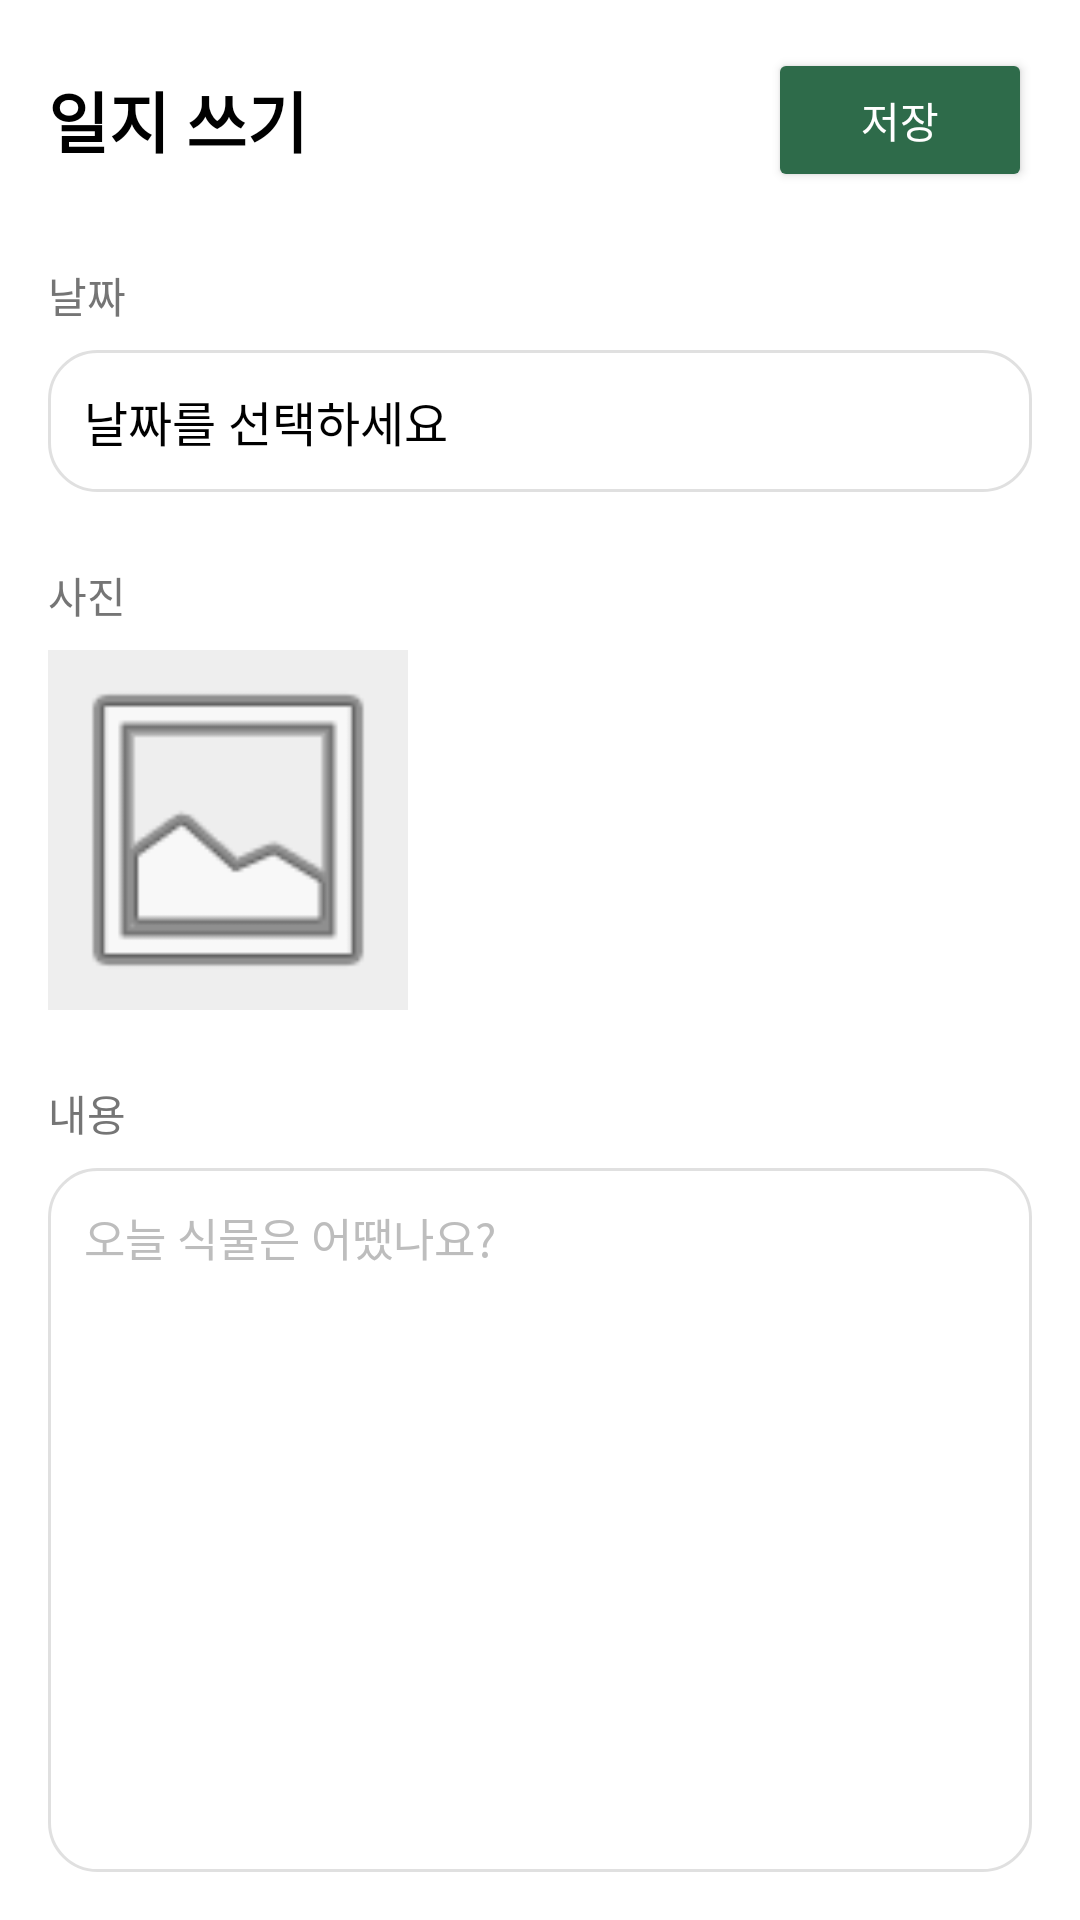

Named icons in this screenshot (1080 × 1920) and their bounding boxes, rect(x1, y1, x2, y2):
gallery: rect(48, 650, 408, 1010)
